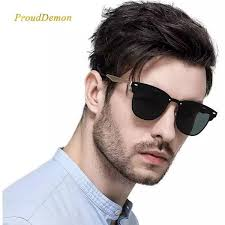g.y: (131, 81, 167, 121)
